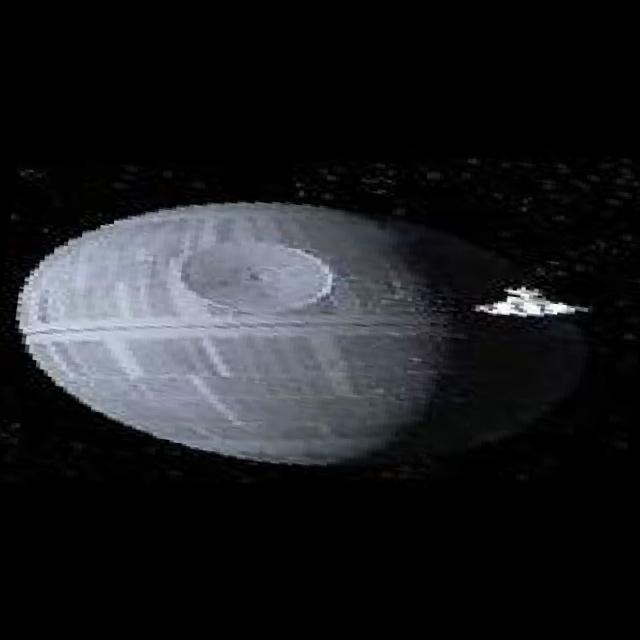Death Star: (26, 154, 587, 498)
